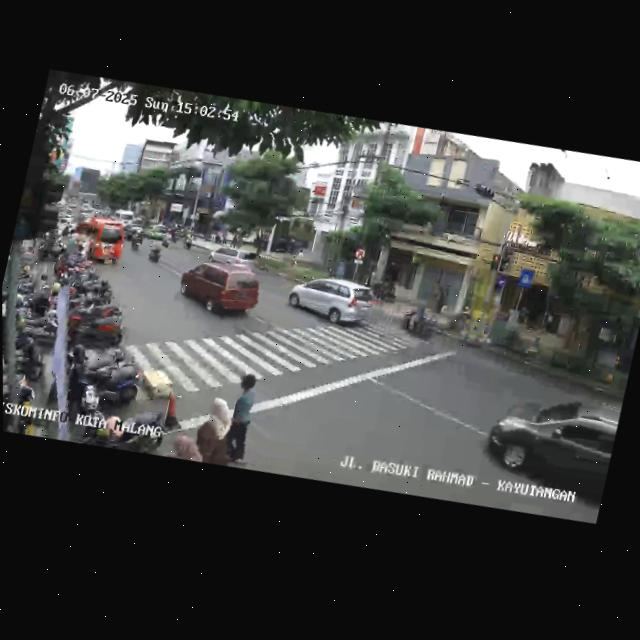car: (477, 372, 624, 511), (172, 250, 267, 329), (283, 265, 378, 338), (66, 211, 129, 272)
motorcycle: (397, 297, 446, 347), (145, 236, 166, 267), (129, 226, 146, 251), (181, 229, 195, 252)
person: (220, 368, 266, 467), (192, 393, 241, 468), (167, 430, 208, 465)
